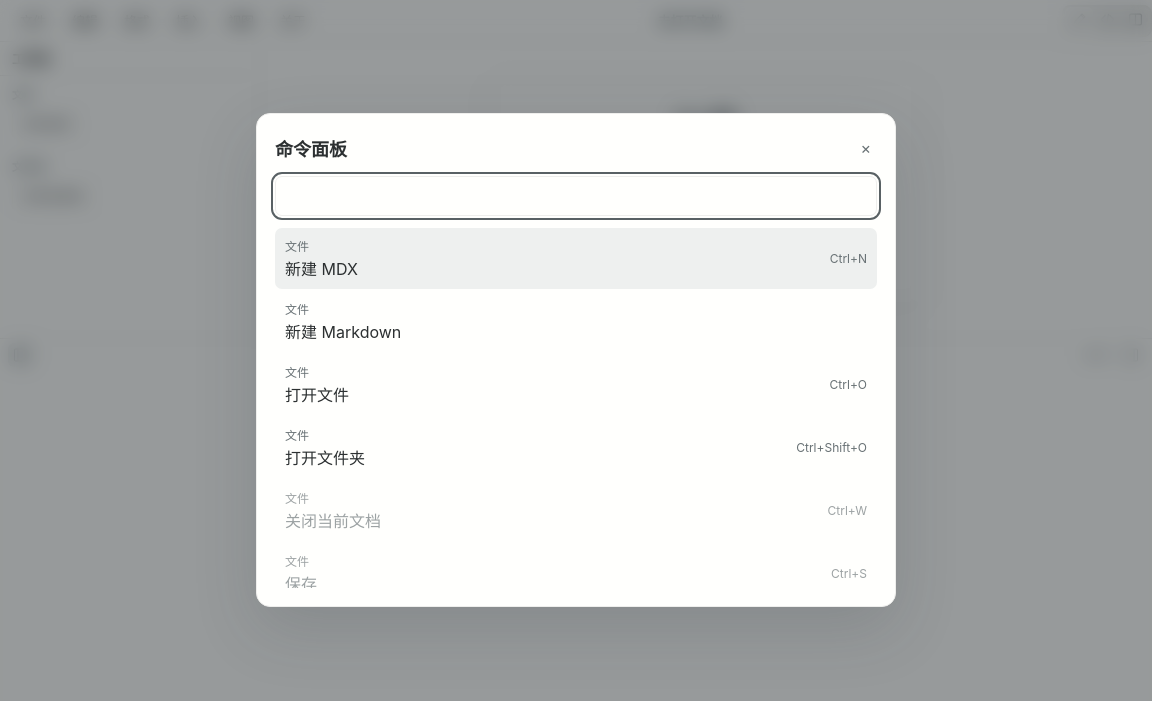
Test: App Web 预览启动 › 通过命令面板打开设置工作区后交接焦点
In the field named "搜索命令": (576,196) [275, 176, 877, 216], type "偏好设置"
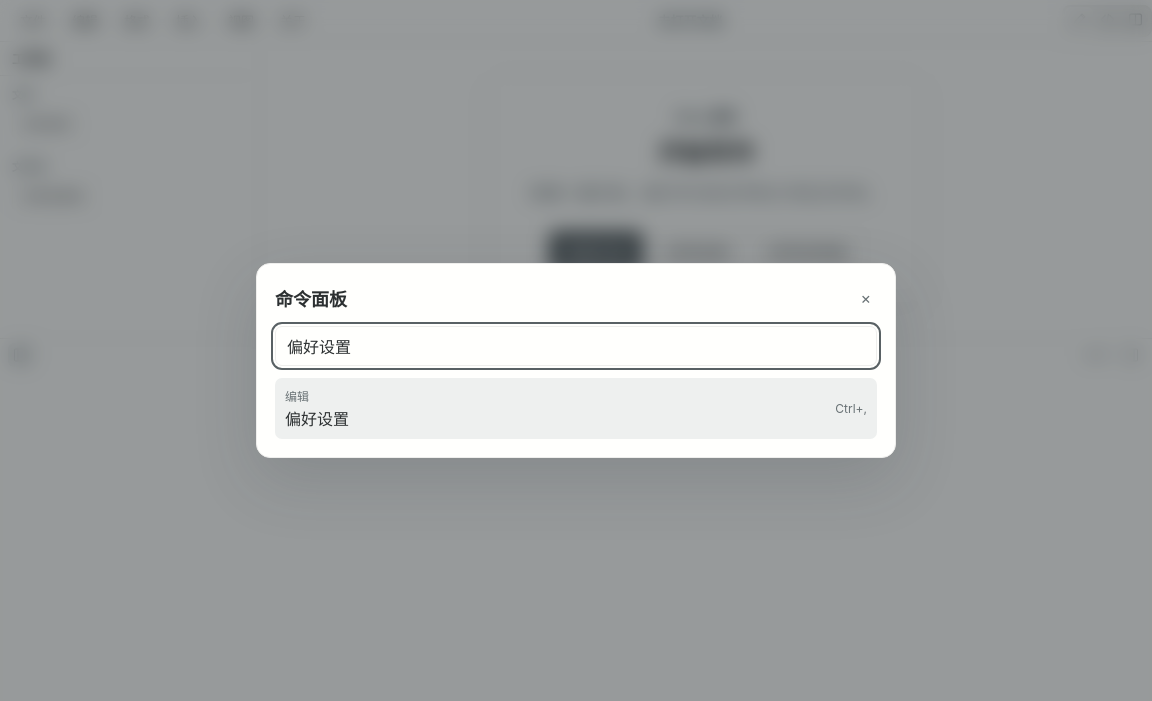
Press Enter in the field named "搜索命令", box [275, 326, 877, 366]
(page scrolled)
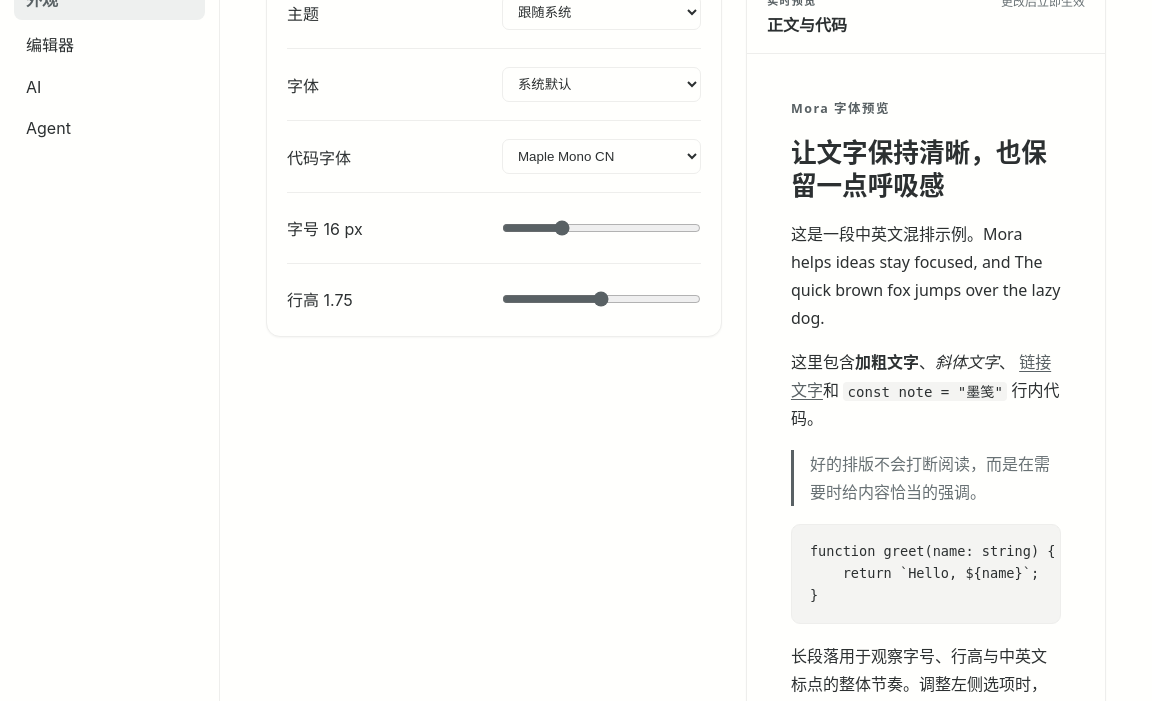
Expected: the field named "搜索命令" is gone
